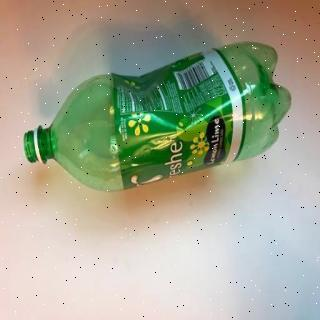Plastic-bottle: (23, 39, 296, 197)
